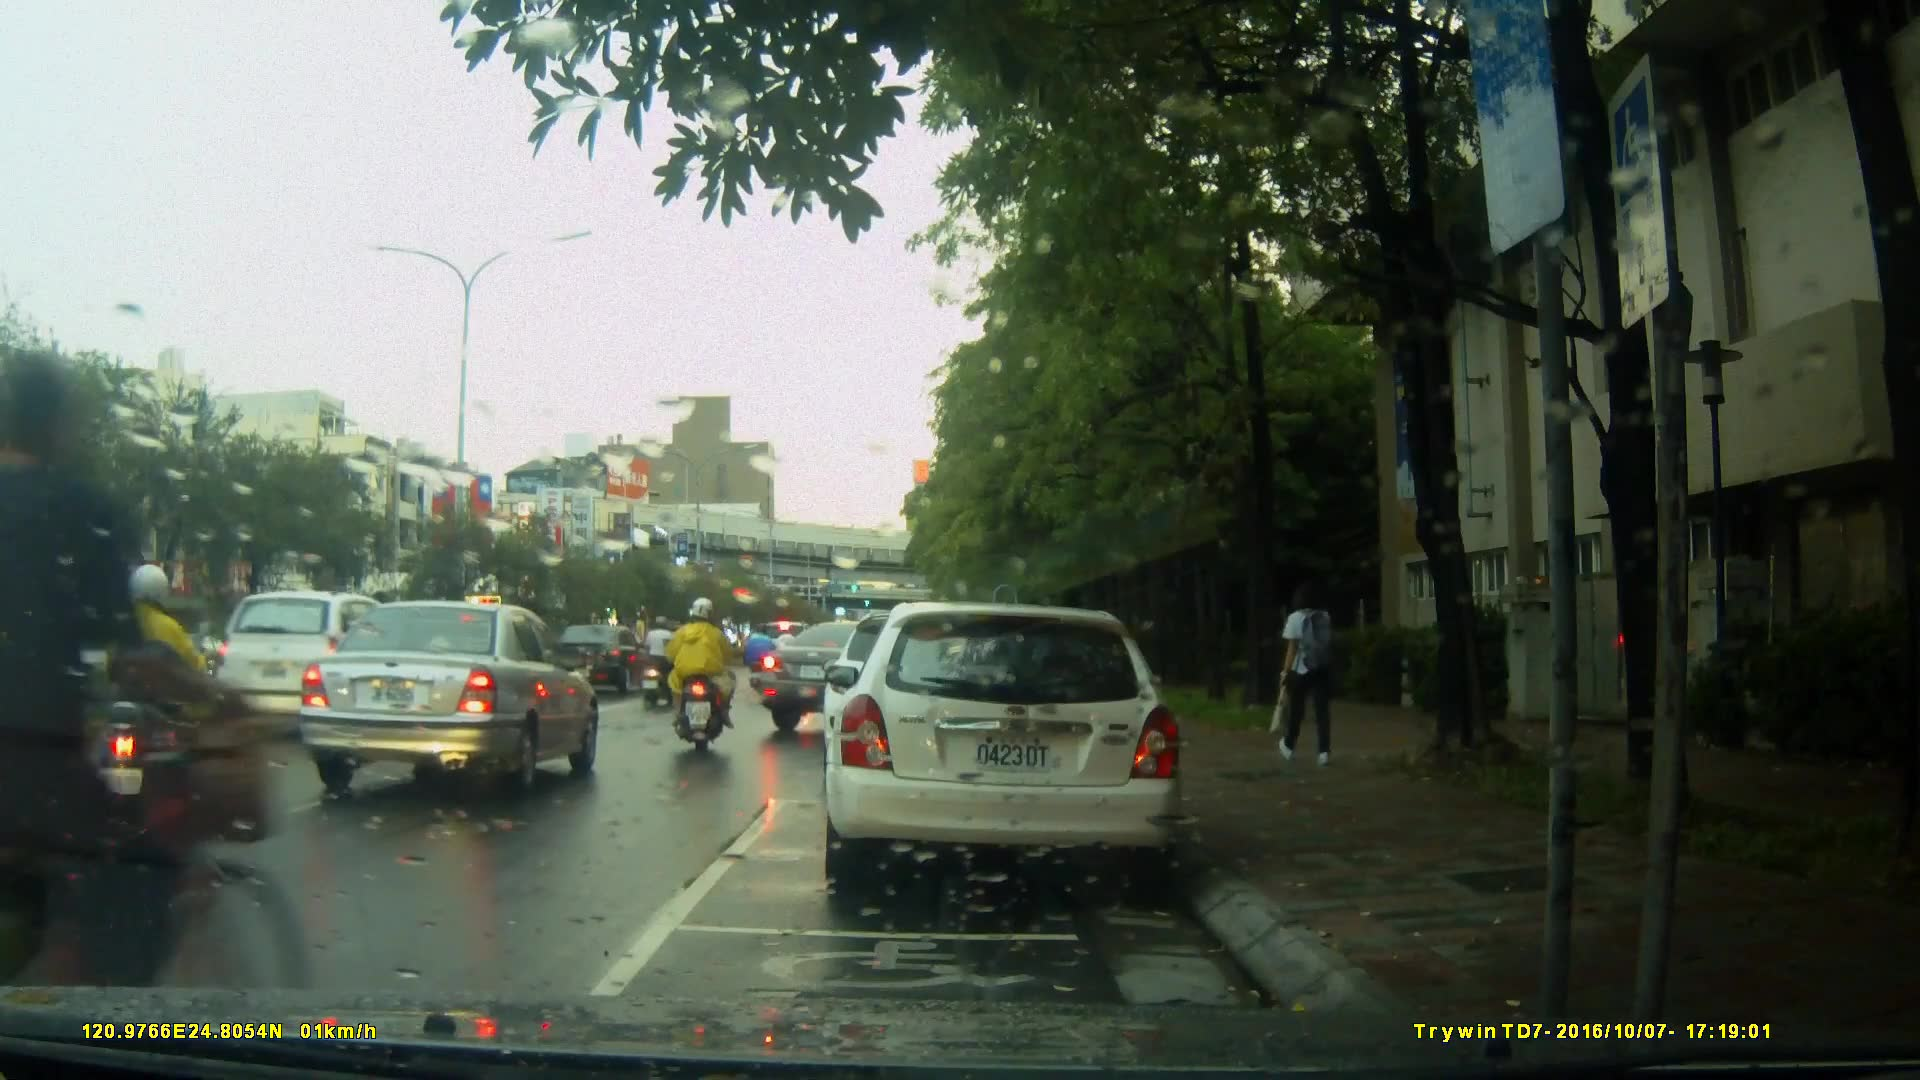pedestrian: (1278, 570, 1345, 772)
rider: (101, 569, 229, 845), (668, 591, 733, 762), (629, 610, 672, 707), (752, 620, 777, 704)
vehicle: (820, 602, 1188, 898), (299, 599, 605, 794), (211, 589, 435, 741), (757, 618, 961, 740), (550, 623, 659, 696)
